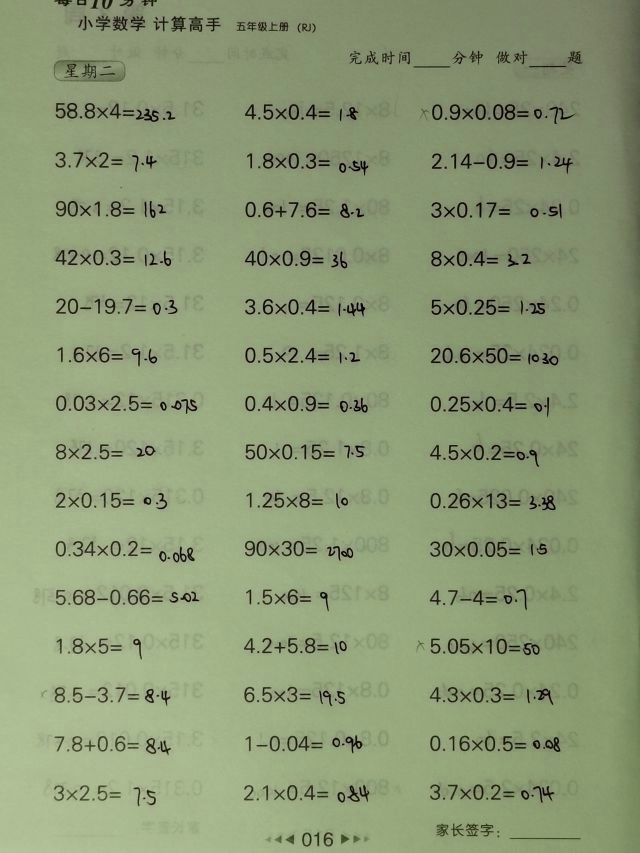equation: (416, 98, 579, 126), (422, 778, 560, 809), (50, 535, 197, 564), (427, 148, 577, 175), (51, 390, 201, 416), (52, 585, 204, 610), (242, 148, 372, 176), (428, 196, 566, 222), (426, 391, 553, 419), (49, 98, 176, 126), (426, 342, 562, 368), (426, 487, 559, 513), (426, 730, 564, 755), (240, 780, 372, 806), (426, 681, 557, 707), (240, 390, 371, 416), (427, 438, 543, 467), (50, 730, 174, 757), (240, 196, 367, 222), (240, 98, 362, 125), (241, 730, 366, 756), (413, 633, 543, 658), (50, 682, 174, 708), (51, 244, 175, 270), (53, 293, 181, 318), (242, 440, 369, 465), (241, 294, 368, 319), (240, 535, 357, 562), (427, 584, 531, 614), (52, 488, 172, 514), (427, 537, 551, 562), (241, 343, 365, 368), (51, 196, 170, 222), (49, 780, 159, 808), (428, 295, 549, 320), (51, 147, 160, 174), (53, 342, 161, 369), (240, 245, 351, 271), (239, 681, 349, 707), (241, 633, 351, 658), (243, 488, 353, 513), (52, 634, 146, 663), (52, 440, 160, 465), (427, 246, 535, 271), (242, 584, 334, 612)
